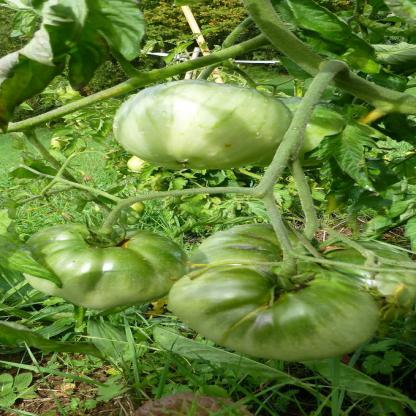Tomato: (191, 222, 415, 318), (113, 84, 292, 171), (25, 221, 194, 308)
